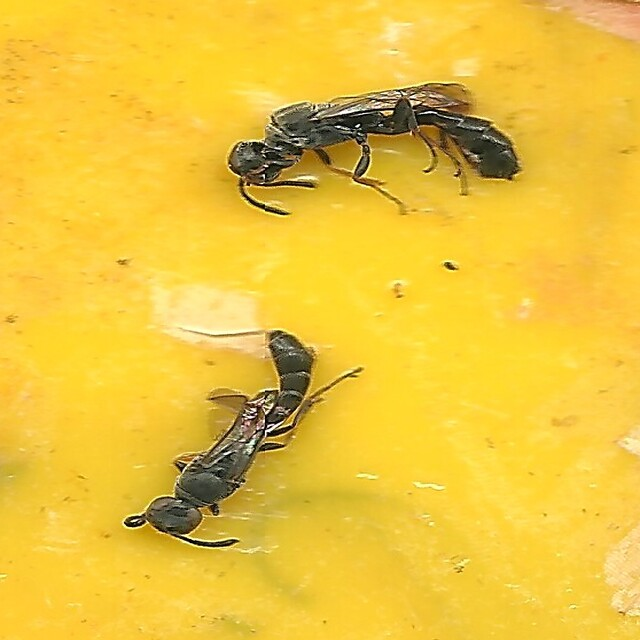Hymenoptera: (115, 323, 358, 555), (229, 85, 525, 219)
